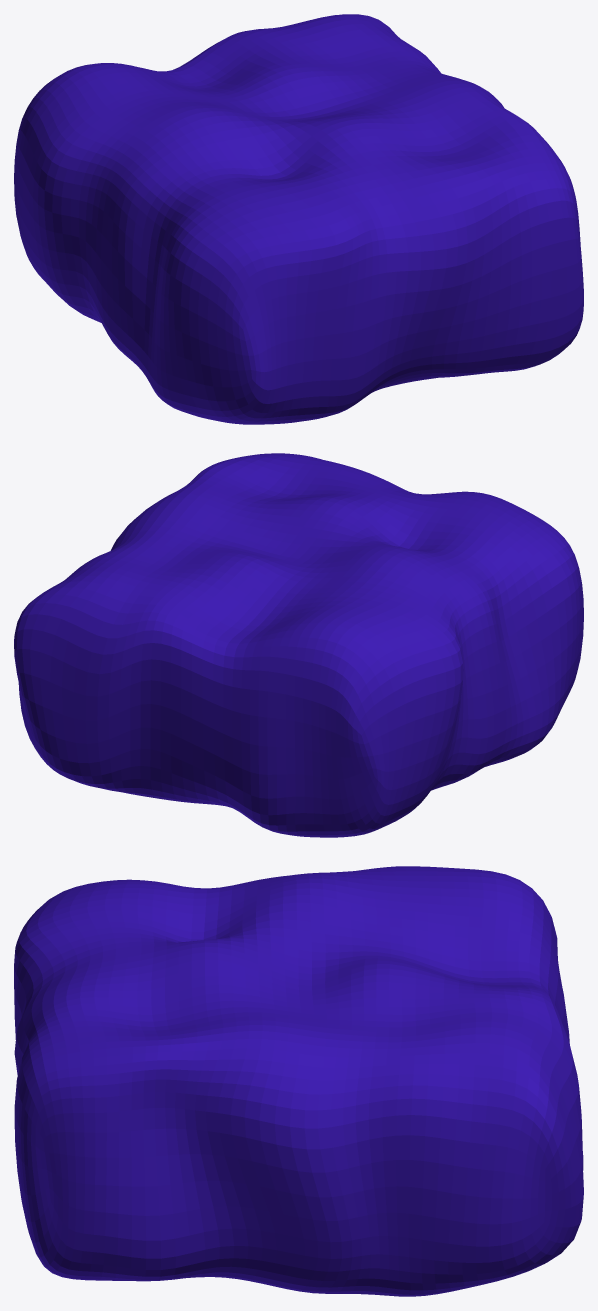
The model's file is Abyss.fbx.
3 renders of one model, top to bottom at view 1: azimuth 30°, elevation 25°; view 2: azimuth 150°, elevation 25°; view 3: azimuth 270°, elevation 25°, orthographic. The views are drawn at different scales.
Visible parts, largest first — view 1: Abyss; view 2: Abyss; view 3: Abyss.
Boxes of the visible parts, left/top/right/bottom form: Abyss: left=14, top=14, right=583, bottom=424; Abyss: left=14, top=453, right=583, bottom=837; Abyss: left=14, top=866, right=583, bottom=1296.
Size of the model in its own units: 3859 by 2149 by 4021.
